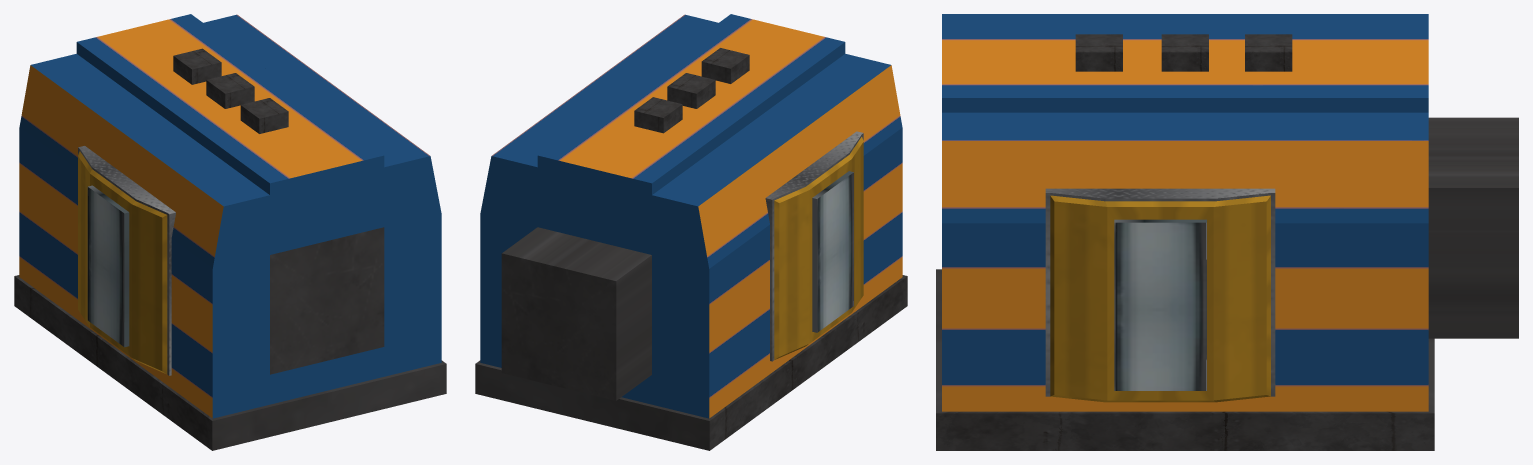
The model's file is train-car_3.fbx.
The picture shows the model from 3 angles, left to right: view 1: azimuth 30°, elevation 25°; view 2: azimuth 150°, elevation 25°; view 3: azimuth 270°, elevation 25°; orthographic projection. The views are drawn at different scales.
Parts seen in each view (by area): view 1: Cube.050; view 2: Cube.050; view 3: Cube.050.
Part boxes in pixels (x1,y1,x2,y2): Cube.050: (14, 14, 446, 450); Cube.050: (475, 14, 907, 450); Cube.050: (936, 14, 1518, 450).
Bounding box in the file's own units: 235 × 223 × 351.
